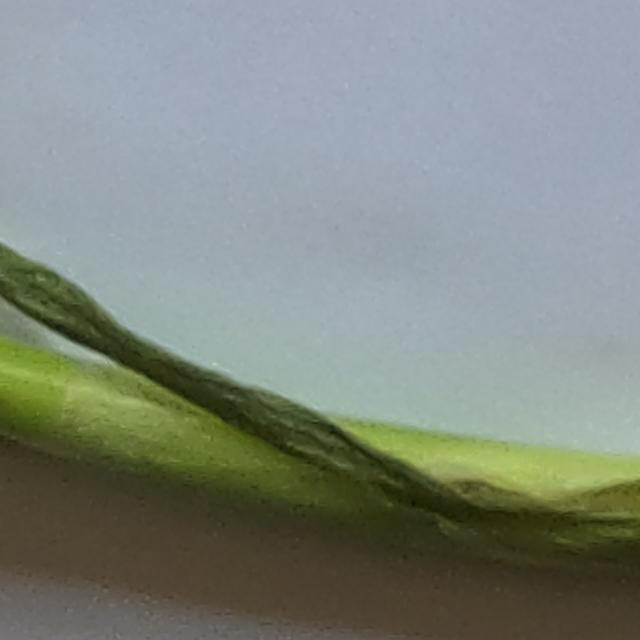green_onion: (0, 239, 640, 580)
